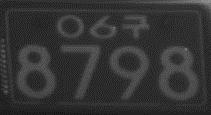0: (55, 13, 84, 39)
6: (88, 14, 117, 39)
7: (58, 43, 100, 101)
8: (14, 42, 56, 100), (158, 43, 199, 101)
9: (108, 44, 149, 100)
구: (121, 12, 150, 39)
